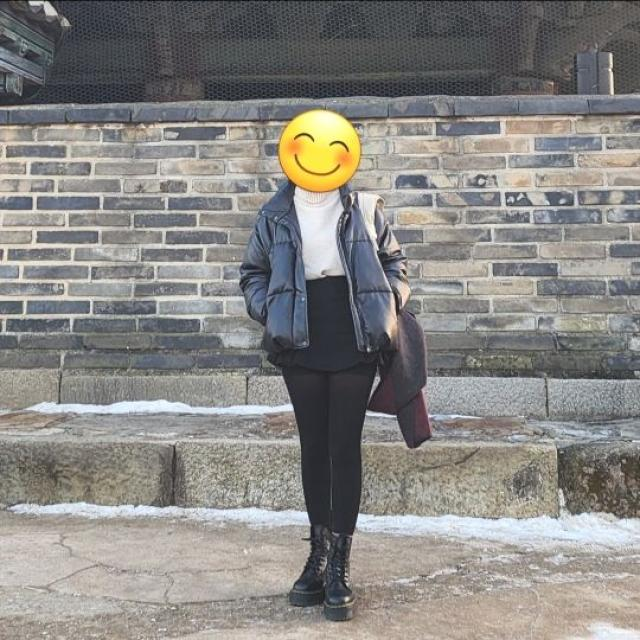padding: (241, 178, 410, 359)
skirt: (272, 275, 373, 375)
